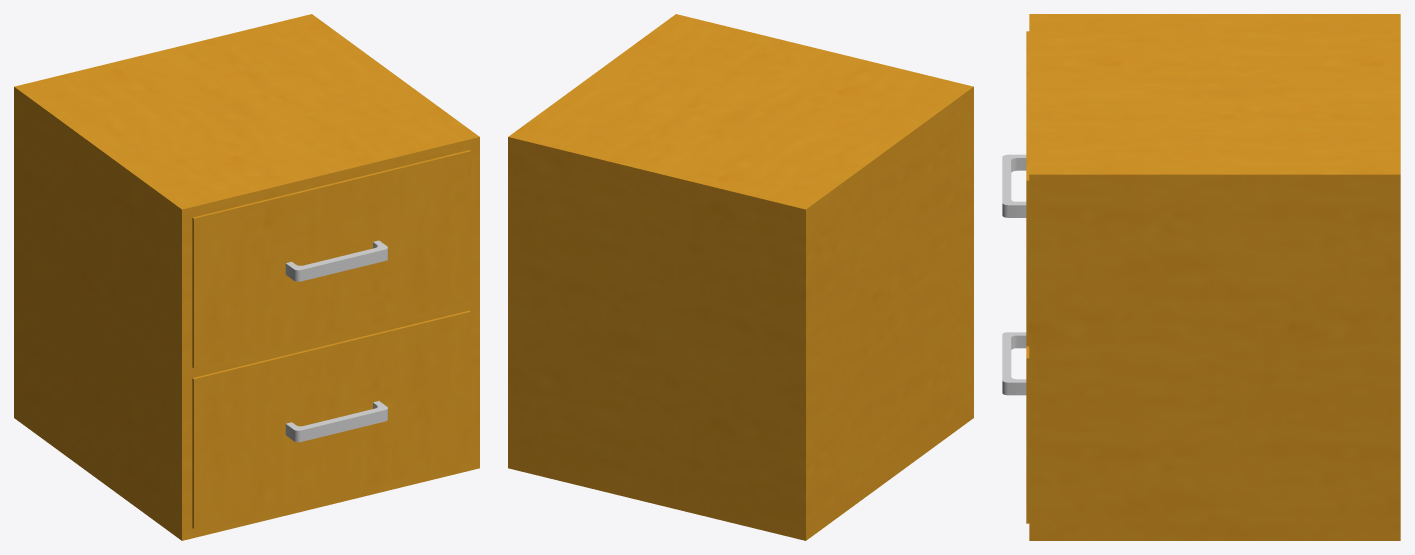
The model's file is Drawer06.fbx.
3 views of the same model, side by side, from view 1: azimuth 30°, elevation 25°; view 2: azimuth 150°, elevation 25°; view 3: azimuth 270°, elevation 25° (orthographic). The views are drawn at different scales.
Visible parts, largest first — view 1: Drawer_Body06, Drawer06_1, Drawer06_2; view 2: Drawer_Body06; view 3: Drawer_Body06, Drawer06_1, Drawer06_2.
Part boxes in pixels (x1,y1,x2,y2): Drawer_Body06: [14, 14, 479, 540]; Drawer06_1: [192, 150, 470, 368]; Drawer06_2: [192, 310, 470, 528]; Drawer_Body06: [508, 14, 973, 540]; Drawer_Body06: [1029, 14, 1400, 540]; Drawer06_1: [1002, 31, 1029, 346]; Drawer06_2: [1002, 332, 1029, 523].
Bounding box in the file's own units: 41.81 × 44.45 × 43.83.
